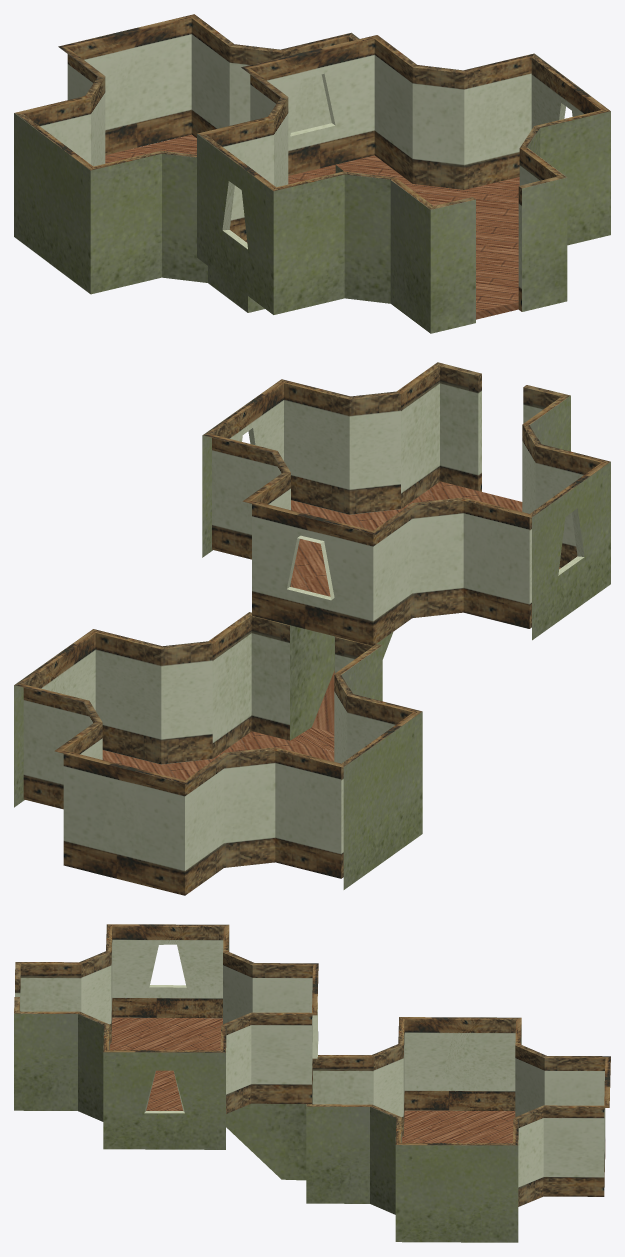
Rendered from HouseInterior_1x1_basement.fbx.
3 renders of one model, top to bottom at view 1: azimuth 30°, elevation 25°; view 2: azimuth 150°, elevation 25°; view 3: azimuth 270°, elevation 25°, orthographic. The views are drawn at different scales.
Visible parts, largest first — view 1: sotano_01, pared_lv3_013, pared_lv2_025, pared_lv1_019, pared_lateral_012, suelo_bajada_02, pared_lv1_020, pared_lv2_026, pared_lateral_013; view 2: sotano_01, pared_lv3_013, pared_lv2_026, pared_lateral_012, pared_lv1_020, suelo_bajada_02, pared_lv2_025, pared_lateral_013, pared_lv1_019; view 3: sotano_01, pared_lv3_013, pared_lateral_013, pared_lateral_012, suelo_bajada_02, pared_lv1_020, pared_lv1_019, pared_lv2_026, pared_lv2_025.
Boxes of the visible parts, x1,y1,x2,y2 form: sotano_01: (14, 14, 359, 312); pared_lv3_013: (198, 35, 533, 241); pared_lv2_025: (273, 171, 394, 314); pared_lv1_019: (390, 177, 475, 333); pared_lateral_012: (197, 133, 275, 314); suelo_bajada_02: (246, 155, 519, 319); pared_lv1_020: (518, 147, 567, 311); pared_lv2_026: (520, 110, 610, 245); pared_lateral_013: (531, 53, 610, 129); sotano_01: (14, 612, 422, 895); pared_lv3_013: (203, 434, 531, 645); pared_lv2_026: (282, 379, 400, 514); pared_lateral_012: (529, 461, 610, 640); pared_lv1_020: (397, 362, 481, 508); suelo_bajada_02: (290, 481, 560, 751); pared_lv2_025: (522, 424, 609, 567); pared_lateral_013: (202, 379, 283, 557); pared_lv1_019: (523, 385, 570, 451); sotano_01: (306, 1017, 610, 1242); pared_lv3_013: (220, 925, 318, 1113); pared_lateral_013: (103, 1050, 225, 1149); pared_lateral_012: (108, 924, 229, 1018); suelo_bajada_02: (109, 1017, 312, 1180); pared_lv1_020: (14, 997, 79, 1110); pared_lv1_019: (15, 962, 81, 1011); pared_lv2_026: (78, 1012, 109, 1121); pared_lv2_025: (79, 924, 112, 1043).
Size of the model in its own units: 4706 by 3176 by 9120.
